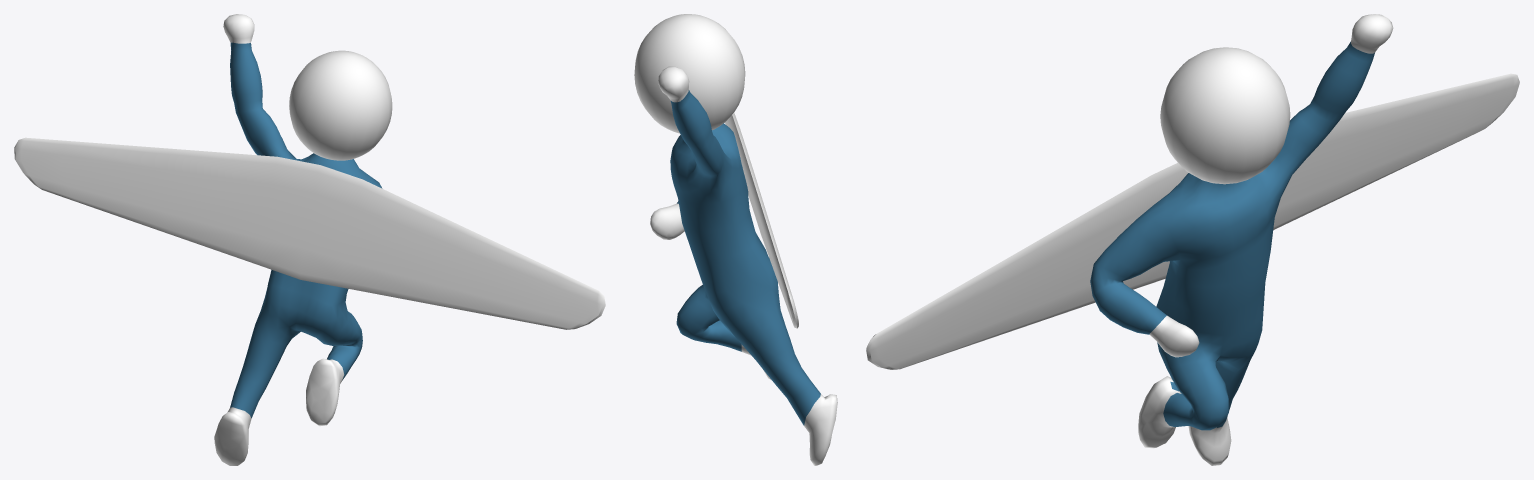
The model's file is flying man (anim group transitions).gltf.
The picture shows the model from 3 angles, left to right: view 1: azimuth 30°, elevation 25°; view 2: azimuth 150°, elevation 25°; view 3: azimuth 270°, elevation 25°; orthographic projection. The views are drawn at different scales.
Visible parts, largest first — view 1: pCube6, posed, pSphere1; view 2: posed, pSphere1, pCube6; view 3: posed, pCube6, pSphere1.
Part boxes in pixels (bbox=[...]): pCube6: bbox=[14, 137, 605, 329]; posed: bbox=[214, 14, 382, 465]; pSphere1: bbox=[289, 50, 392, 160]; posed: bbox=[650, 66, 837, 465]; pSphere1: bbox=[634, 14, 745, 133]; pCube6: bbox=[725, 112, 798, 328]; posed: bbox=[1090, 14, 1393, 465]; pCube6: bbox=[866, 73, 1519, 369]; pSphere1: bbox=[1160, 47, 1290, 184].
Bounding box in the file's own units: 0.0578 × 0.0642 × 0.0774.
Materials: 1 (1 with a texture image).
